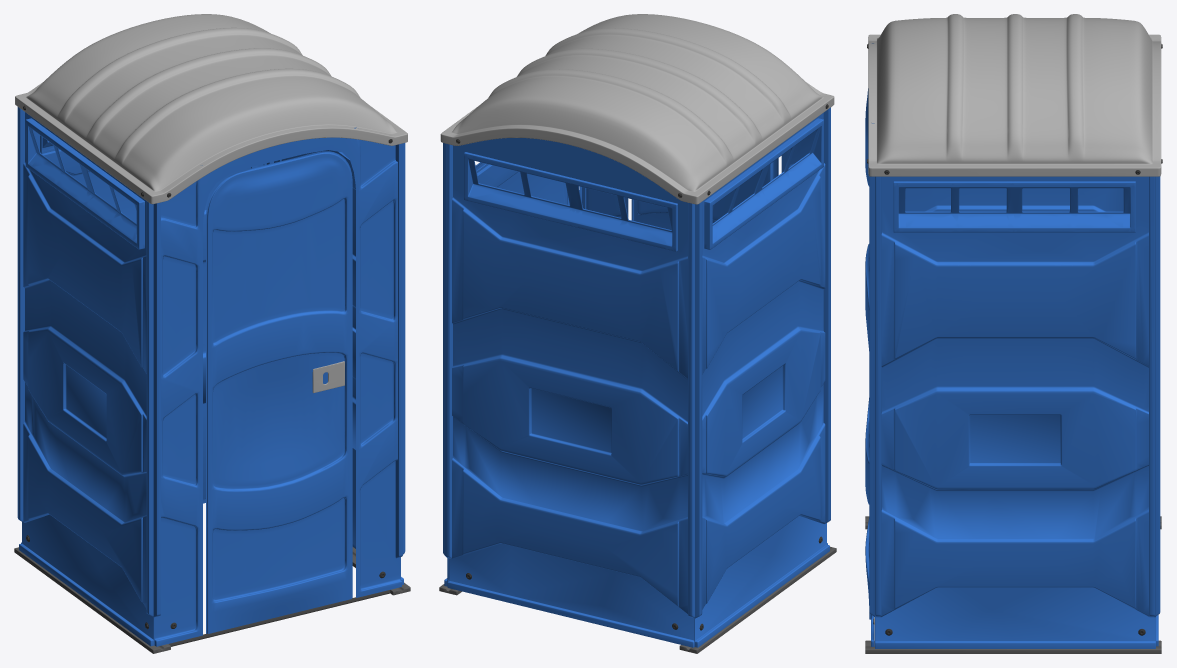
Rendered from portableToiletLOD2.fbx.
3 renders of one model, left to right at view 1: azimuth 30°, elevation 25°; view 2: azimuth 150°, elevation 25°; view 3: azimuth 270°, elevation 25°, orthographic. The views are drawn at different scales.
Parts seen in each view (by area): view 1: Plane010.002, Plane003.002, Plane001.002, Plane004.002, Plane005.002, Box004.002, Object008.002, Object002.002, Object007.002, Object009.002, Plane056.002, Plane011.002 (+4 smaller); view 2: Plane056.002, Plane003.002, Plane001.002, Plane055.002, Box016.002, Plane005.002, Box004.002, Object007.002, Object013.002, Object012.002, Object002.002, Plane010.002 (+4 smaller); view 3: Plane011.002, Plane001.002, Plane016.002, Box005.002, Plane003.002, Object010.002, Object011.002, Object009.002, Object013.002, Box014.002, Plane010.002.
Part boxes in pixels (x1,y1,x2,y2): Plane010.002: (206, 151, 352, 633); Plane003.002: (23, 112, 146, 608); Plane001.002: (15, 14, 407, 204); Plane004.002: (154, 127, 401, 646); Plane005.002: (19, 514, 154, 646); Box004.002: (25, 118, 144, 249); Object008.002: (153, 202, 160, 617); Object002.002: (146, 201, 153, 616); Object007.002: (17, 107, 24, 522); Object009.002: (395, 143, 402, 558); Plane056.002: (33, 130, 263, 403); Plane011.002: (274, 150, 355, 450); Plane056.002: (452, 138, 687, 613); Plane003.002: (702, 113, 825, 609); Plane001.002: (440, 14, 834, 204); Plane055.002: (447, 543, 694, 647); Box016.002: (464, 152, 677, 251); Plane005.002: (694, 516, 829, 647); Box004.002: (704, 118, 823, 249); Object007.002: (695, 202, 702, 618); Object013.002: (445, 143, 452, 558); Object012.002: (688, 203, 694, 617); Object002.002: (823, 107, 830, 523); Plane010.002: (631, 158, 778, 229); Plane011.002: (881, 176, 1149, 616); Plane001.002: (868, 14, 1161, 176); Plane016.002: (875, 587, 1155, 648); Box005.002: (893, 181, 1135, 232); Plane003.002: (905, 188, 1123, 211); Object010.002: (875, 176, 881, 617); Object011.002: (1149, 176, 1155, 617); Object009.002: (869, 176, 874, 616); Object013.002: (1156, 176, 1160, 615); Box014.002: (865, 640, 1161, 653); Plane010.002: (865, 88, 870, 619).
Bounding box in the file's own units: 131 × 249 × 122.
